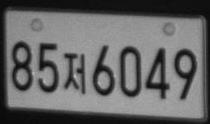0: (119, 45, 143, 98)
4: (144, 46, 170, 99)
5: (37, 42, 60, 93)
6: (91, 44, 116, 96)
8: (10, 40, 33, 92)
9: (173, 47, 198, 99)
저: (63, 51, 87, 94)
